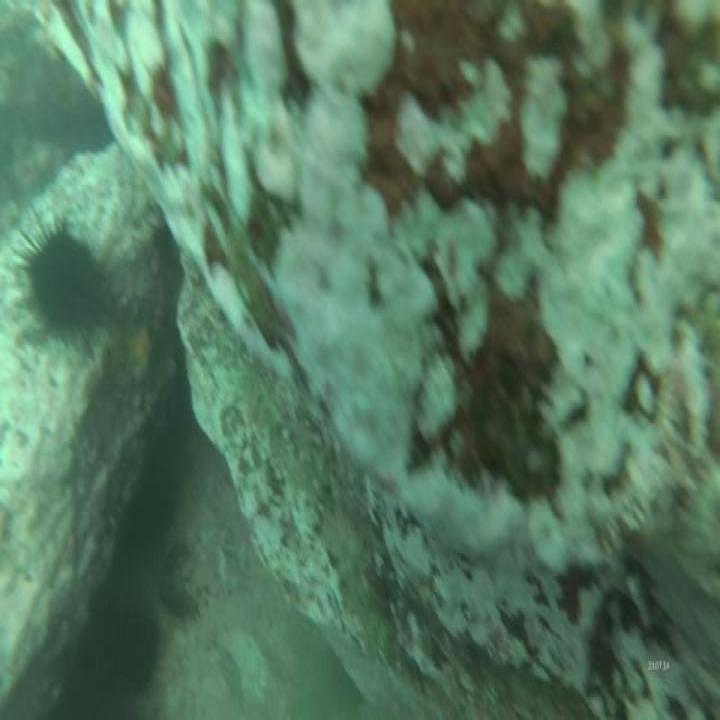echinus: (26, 224, 116, 345), (89, 586, 158, 690)
